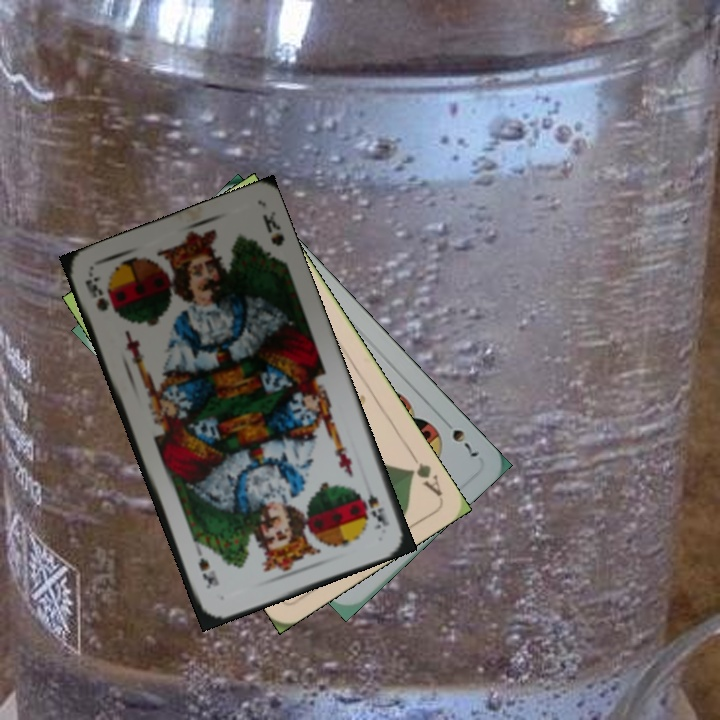GA: (403, 447, 446, 500)
S7: (437, 413, 483, 460)
SK: (359, 476, 392, 532), (81, 272, 113, 314)
